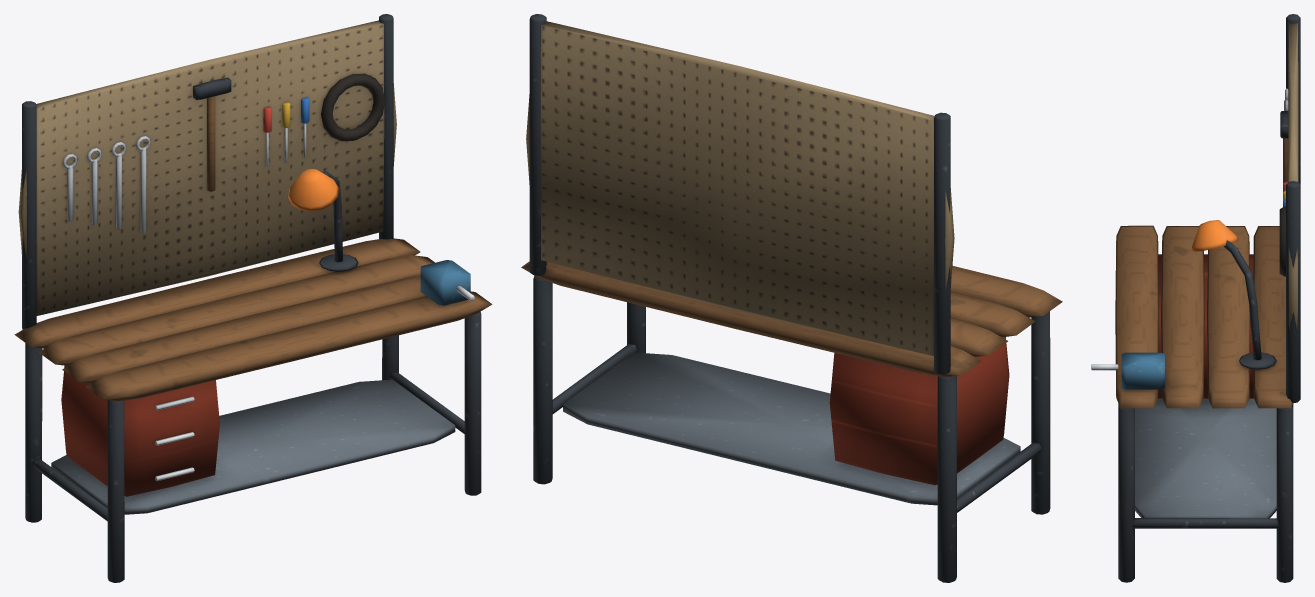
The model's file is Mesa_Chatarra.fbx.
3 renders of one model, left to right at view 1: azimuth 30°, elevation 25°; view 2: azimuth 150°, elevation 25°; view 3: azimuth 270°, elevation 25°, orthographic. The views are drawn at different scales.
Visible parts, largest first — view 1: Malla; view 2: Malla; view 3: Malla.
Part boxes in pixels (left/top/right/bottom): Malla: left=14, top=14, right=492, bottom=582; Malla: left=521, top=14, right=1062, bottom=582; Malla: left=1091, top=14, right=1300, bottom=582.
Bounding box in the file's own units: 2.08 × 2.1 × 1.01.
1 material, 1 textured.
